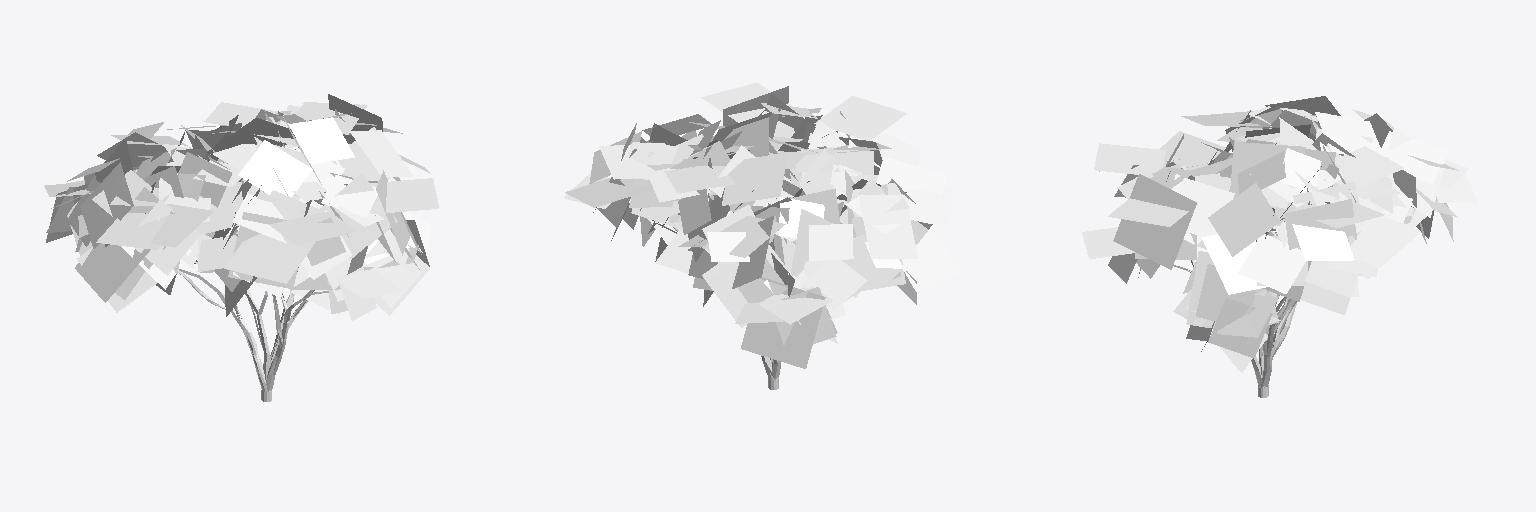
Rendered from Desert_Willow_Model_0.obj.
The picture shows the model from 3 angles: view 1: azimuth 30°, elevation 25°; view 2: azimuth 150°, elevation 25°; view 3: azimuth 270°, elevation 25°; orthographic projection.
Visible parts, largest first — view 1: Foliage__leafcard, Bark; view 2: Foliage__leafcard; view 3: Foliage__leafcard, Bark.
Part boxes in pixels (x1,y1,x2,y2): Foliage__leafcard: (44,94,438,320); Bark: (178,261,328,401); Foliage__leafcard: (564,83,959,368); Foliage__leafcard: (1082,96,1477,372); Bark: (1173,260,1296,397).
Bounding box in the file's own units: 5.18 × 4 × 5.19.